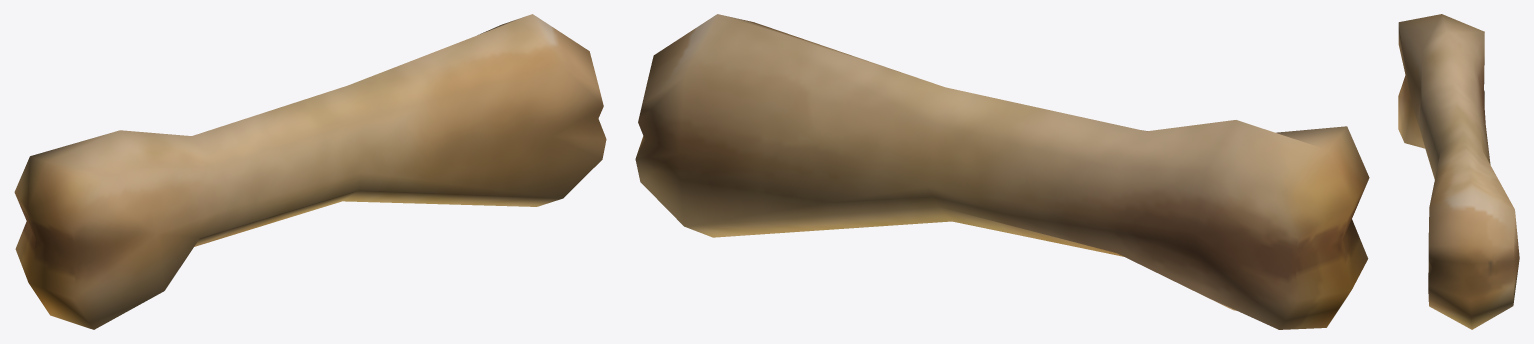
Rendered from Bones_02.fbx.
3 views of the same model, side by side, from view 1: azimuth 30°, elevation 25°; view 2: azimuth 150°, elevation 25°; view 3: azimuth 270°, elevation 25° (orthographic). The views are drawn at different scales.
Visible parts, largest first — view 1: Bones_02; view 2: Bones_02; view 3: Bones_02.
Part boxes in pixels (left/top/right/bottom): Bones_02: left=14, top=14, right=606, bottom=329; Bones_02: left=635, top=14, right=1369, bottom=329; Bones_02: left=1398, top=14, right=1519, bottom=329.
Size of the model in its own units: 39.93 by 12.56 by 9.72.
